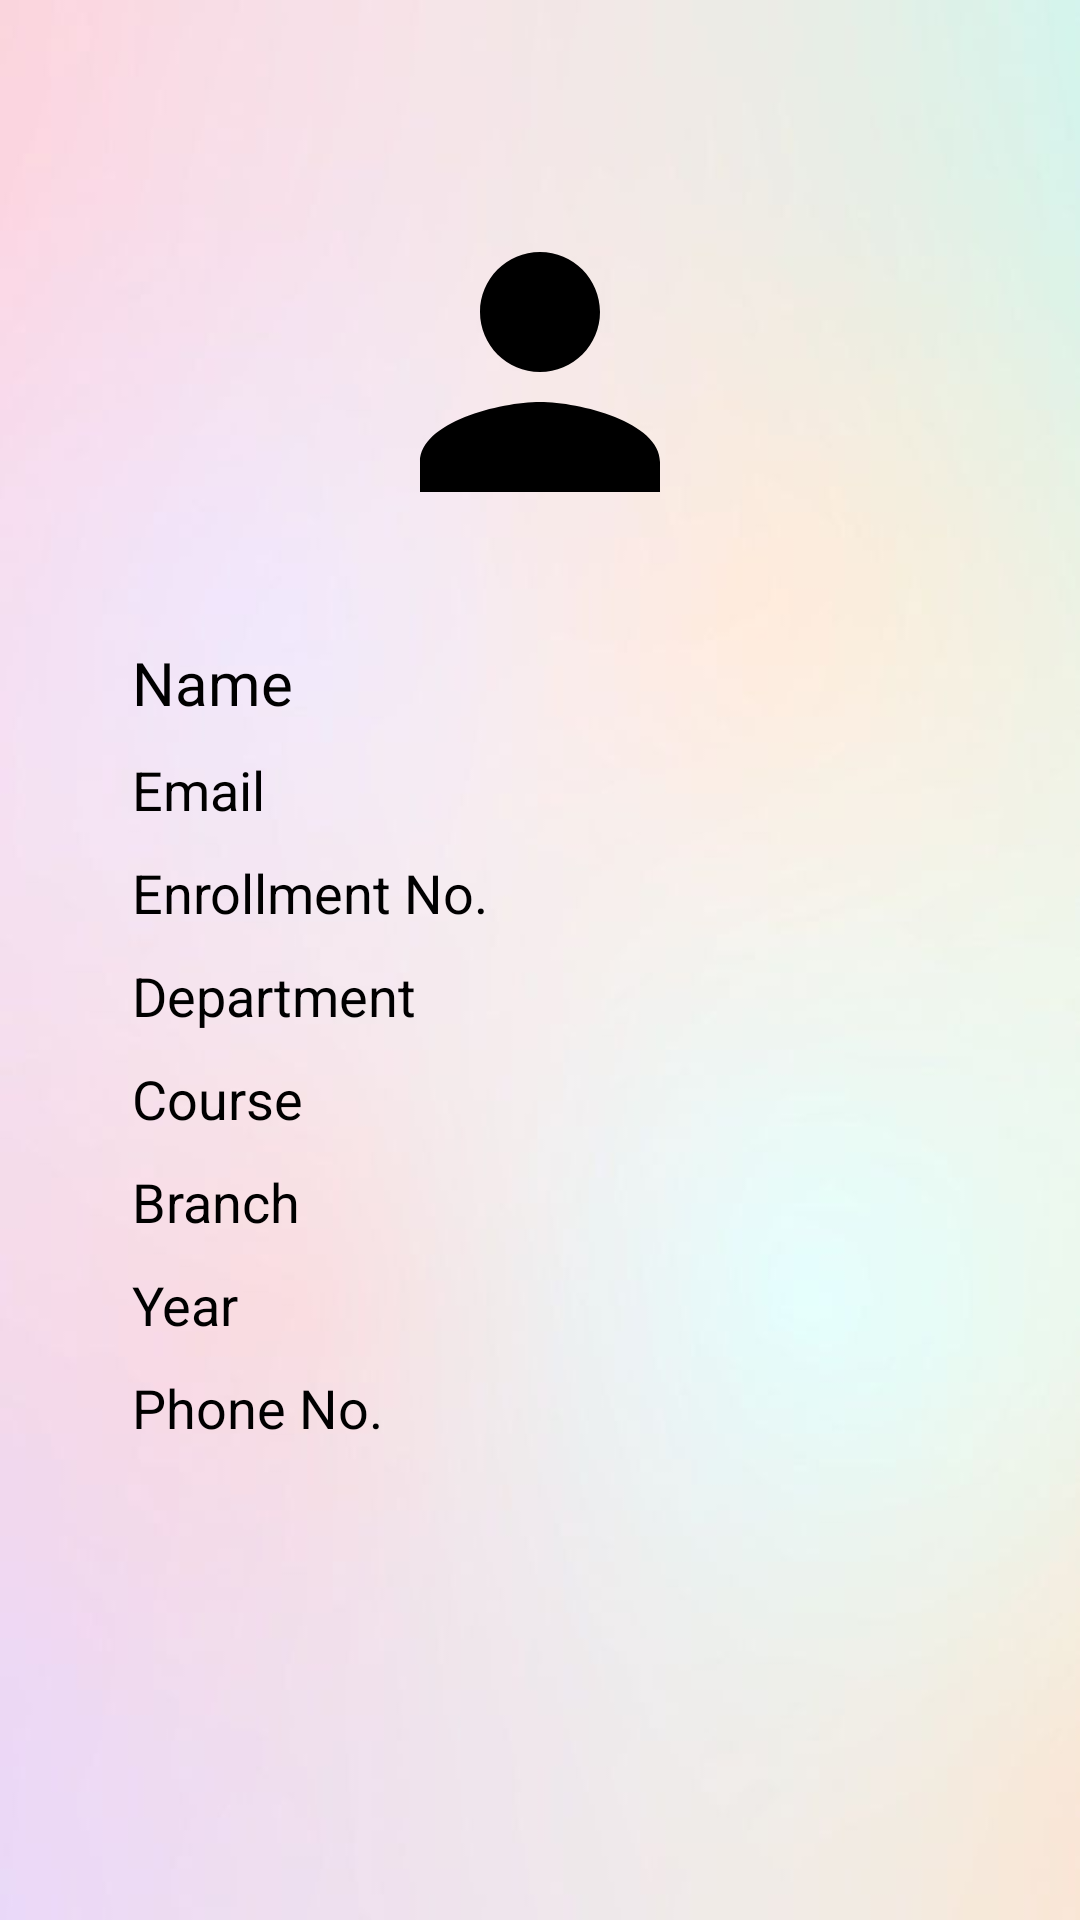

Screen size 1080w x 1920h. Icon name, then its center in pixels as point (x, y):
person: point (540, 372)
